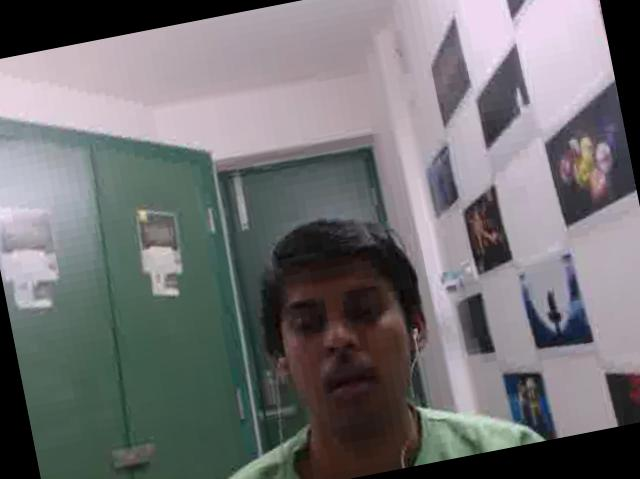bingung: (270, 242, 424, 426)
